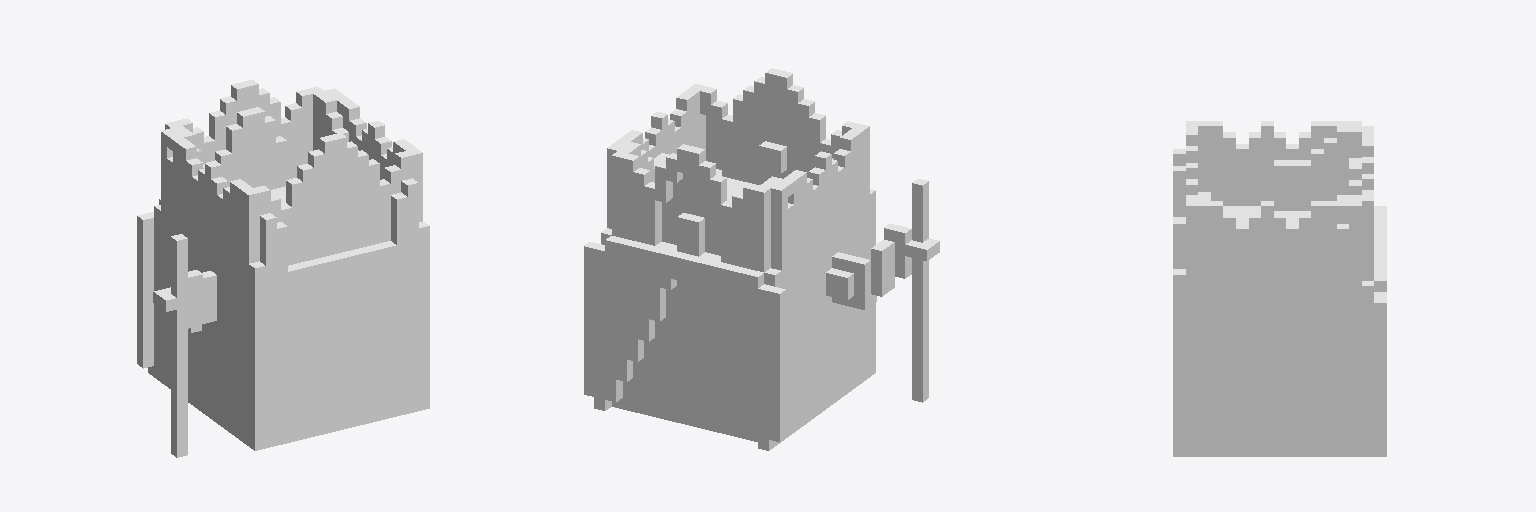
The model's file is kor.obj.
3 views of the same model, side by side, from view 1: azimuth 30°, elevation 25°; view 2: azimuth 150°, elevation 25°; view 3: azimuth 270°, elevation 25° (orthographic).
Visible parts, largest first — view 1: object 1; view 2: object 1; view 3: object 1.
Part boxes in pixels (bbox=[...]): object 1: bbox=[137, 80, 429, 457]; object 1: bbox=[584, 68, 939, 450]; object 1: bbox=[1173, 121, 1386, 456].
Bounding box in the file's own units: 2.4 × 2.5 × 1.7.